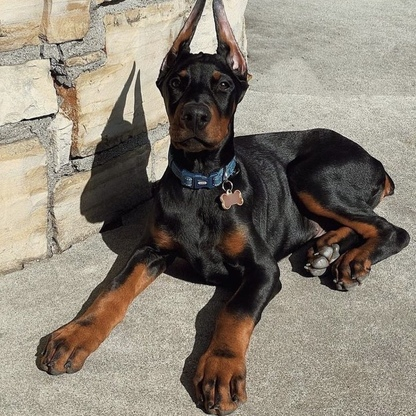doberman: (44, 5, 412, 416)
